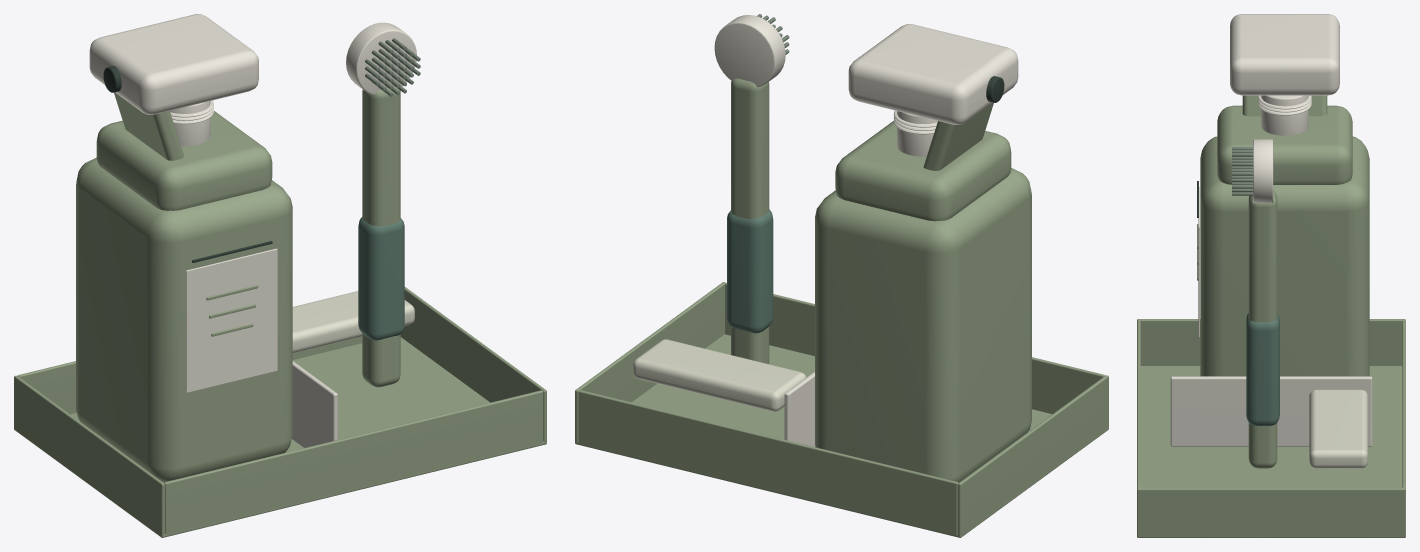
The model's file is pet.glb.
3 views of the same model, side by side, from view 1: azimuth 30°, elevation 25°; view 2: azimuth 150°, elevation 25°; view 3: azimuth 270°, elevation 25° (orthographic). The views are drawn at different scales.
Parts seen in each view (by area): view 1: Task bottle molded body, Removable docking tray front, Task bottle trigger head, Task bottle task label, Task bottle shoulder, Removable docking tray floor, Removable docking tray left, Task brush handle, Removable docking tray right, Task brush soft grip, Separated textile, Wet dry divider (+4 smaller); view 2: Task bottle molded body, Removable docking tray back, Task bottle trigger head, Task bottle shoulder, Removable docking tray left, Separated textile, Task brush handle, Removable docking tray floor, Task brush soft grip, Removable docking tray right, Removable docking tray front, Task brush head (+3 smaller); view 3: Task bottle molded body, Removable docking tray floor, Removable docking tray right, Wet dry divider, Task bottle trigger head, Task bottle shoulder, Task brush handle, Separated textile, Removable docking tray left, Task brush soft grip, Task bottle neck, Task brush head (+3 smaller).
Part boxes in pixels (left/top/right/bottom): Task bottle molded body: left=76, top=157, right=292, bottom=482; Removable docking tray front: left=164, top=390, right=543, bottom=535; Task bottle trigger head: left=89, top=14, right=258, bottom=114; Task bottle task label: left=185, top=248, right=277, bottom=392; Task bottle shoulder: left=96, top=111, right=272, bottom=210; Removable docking tray floor: left=14, top=337, right=546, bottom=537; Removable docking tray left: left=14, top=375, right=164, bottom=537; Task brush handle: left=362, top=86, right=400, bottom=387; Removable docking tray right: left=400, top=287, right=546, bottom=444; Task brush soft grip: left=358, top=217, right=404, bottom=340; Separated textile: left=292, top=291, right=414, bottom=353; Wet dry divider: left=291, top=361, right=337, bottom=447; Task bottle molded body: left=815, top=168, right=1031, bottom=482; Removable docking tray back: left=578, top=390, right=958, bottom=536; Task bottle trigger head: left=848, top=24, right=1018, bottom=124; Task bottle shoulder: left=835, top=121, right=1011, bottom=221; Removable docking tray left: left=957, top=375, right=1108, bottom=537; Separated textile: left=633, top=339, right=806, bottom=411; Task brush handle: left=731, top=78, right=769, bottom=363; Removable docking tray floor: left=575, top=334, right=1108, bottom=537; Task brush soft grip: left=727, top=209, right=773, bottom=333; Removable docking tray right: left=575, top=282, right=725, bottom=444; Removable docking tray front: left=725, top=283, right=1104, bottom=413; Task brush head: left=714, top=15, right=785, bottom=87; Task bottle molded body: left=1200, top=136, right=1369, bottom=376; Removable docking tray floor: left=1137, top=366, right=1405, bottom=537; Removable docking tray right: left=1137, top=488, right=1405, bottom=537; Wet dry divider: left=1170, top=376, right=1372, bottom=446; Task bottle trigger head: left=1230, top=14, right=1339, bottom=95; Task bottle shoulder: left=1217, top=105, right=1352, bottom=184; Task brush handle: left=1248, top=190, right=1277, bottom=468; Separated textile: left=1309, top=389, right=1367, bottom=468; Removable docking tray left: left=1137, top=319, right=1405, bottom=365; Task brush soft grip: left=1246, top=313, right=1279, bottom=425; Task bottle neck: left=1261, top=95, right=1308, bottom=135; Task brush head: left=1253, top=139, right=1273, bottom=203.
Size of the model in its own units: 0.24 by 0.245 by 0.16.
